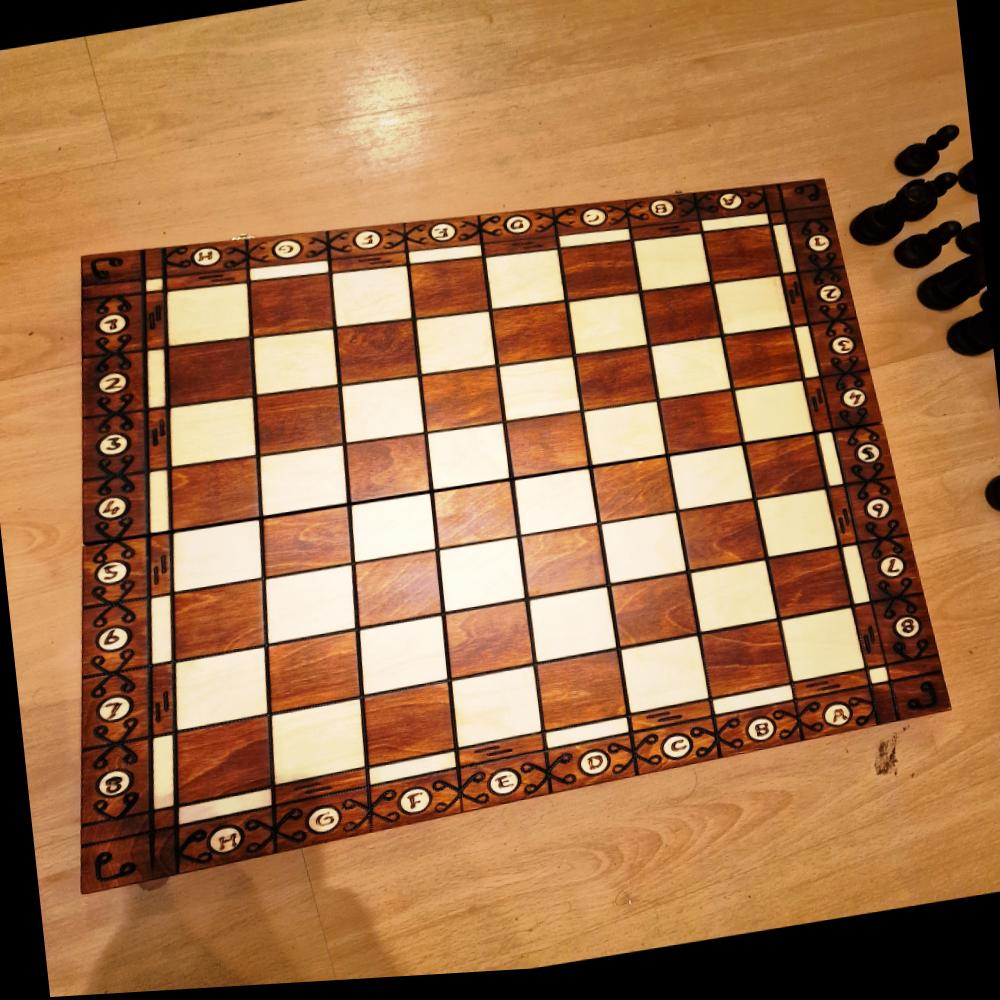chessfield: (172, 718, 277, 807), (268, 702, 368, 790), (174, 648, 274, 733), (264, 633, 363, 717), (172, 582, 272, 663), (262, 568, 359, 650), (447, 670, 540, 755), (362, 687, 456, 771), (357, 620, 450, 701), (534, 656, 625, 738), (440, 606, 532, 686), (167, 456, 263, 532), (354, 555, 445, 635), (171, 522, 268, 597), (617, 644, 706, 724), (698, 629, 788, 708), (254, 446, 348, 520), (527, 594, 616, 671), (167, 396, 259, 470), (250, 389, 342, 463), (259, 511, 354, 582), (165, 337, 256, 411), (607, 581, 694, 658), (518, 531, 606, 607), (436, 544, 523, 620), (777, 617, 861, 694), (689, 568, 774, 644), (248, 329, 337, 401), (338, 381, 426, 453), (162, 281, 252, 351), (344, 435, 432, 506), (598, 521, 682, 595), (350, 499, 437, 570), (332, 320, 418, 391), (766, 556, 848, 630), (679, 509, 763, 581), (430, 487, 516, 557), (588, 463, 674, 533), (246, 274, 333, 343), (425, 426, 509, 496), (580, 405, 664, 475), (418, 372, 502, 442), (512, 475, 596, 545), (412, 312, 494, 383), (504, 416, 588, 485), (328, 265, 412, 334), (754, 499, 834, 570), (491, 304, 573, 373), (498, 363, 580, 432), (669, 454, 751, 522), (565, 299, 646, 367), (484, 253, 565, 321), (573, 354, 654, 421), (650, 345, 730, 412), (406, 259, 486, 326), (744, 443, 824, 510), (558, 246, 638, 312), (660, 399, 740, 465), (642, 291, 721, 357), (733, 390, 812, 455), (723, 336, 801, 401), (714, 283, 790, 349), (634, 239, 710, 304), (704, 232, 780, 296)
